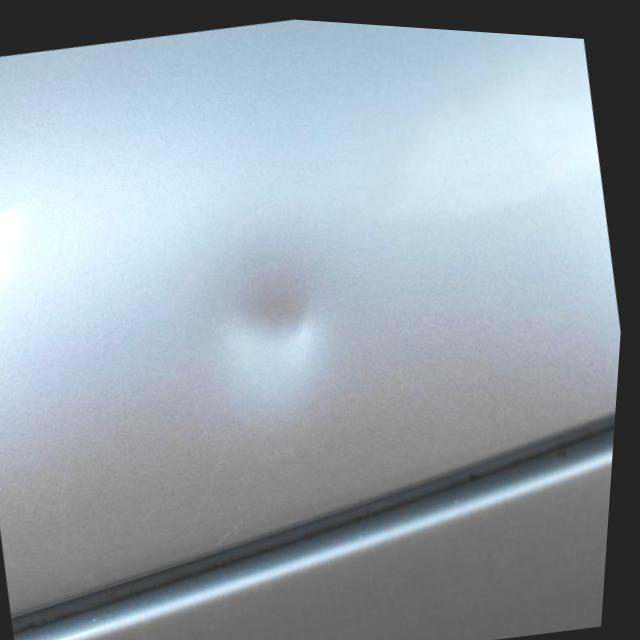Dent: (200, 260, 339, 383)
